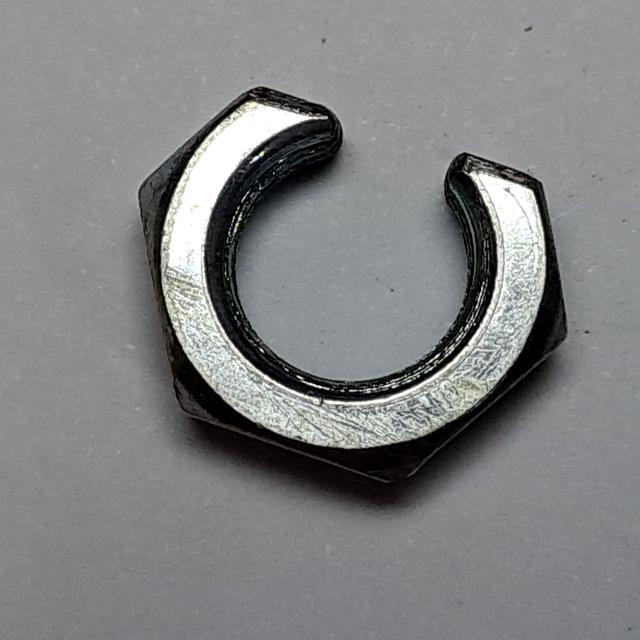Fracture: (128, 70, 589, 502)
